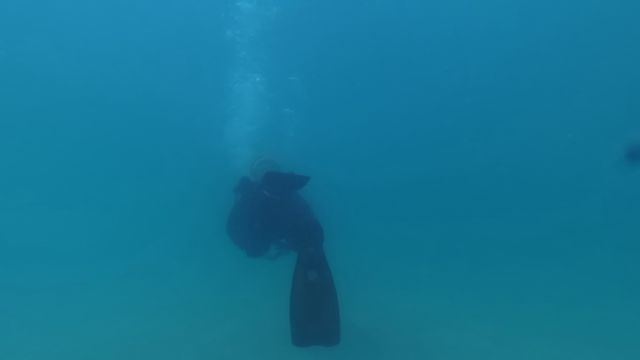Diver: (210, 154, 361, 348)
